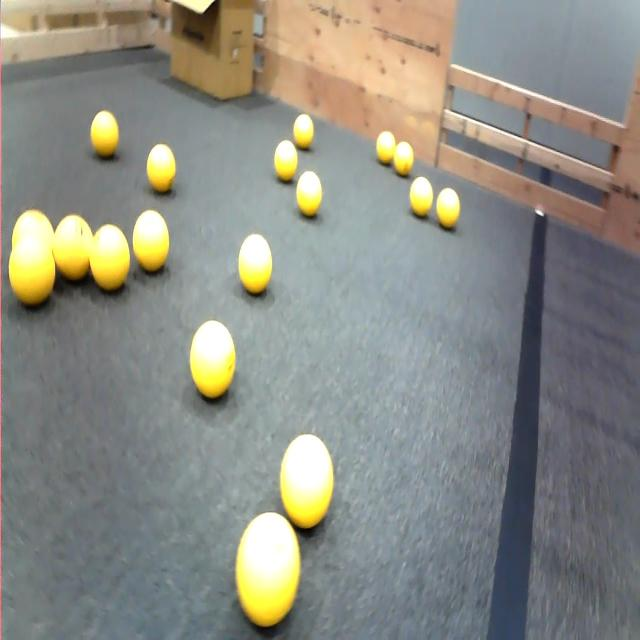fuel: (236, 512, 300, 627), (280, 434, 333, 528), (190, 320, 235, 399), (9, 236, 55, 306), (90, 224, 130, 291), (53, 215, 92, 280), (132, 210, 169, 272), (238, 234, 272, 295), (12, 209, 53, 247), (146, 143, 176, 193), (91, 111, 118, 157), (296, 171, 322, 217), (274, 140, 297, 182), (410, 176, 433, 217), (437, 188, 460, 229), (376, 131, 396, 165), (294, 114, 313, 149), (394, 141, 413, 176)
